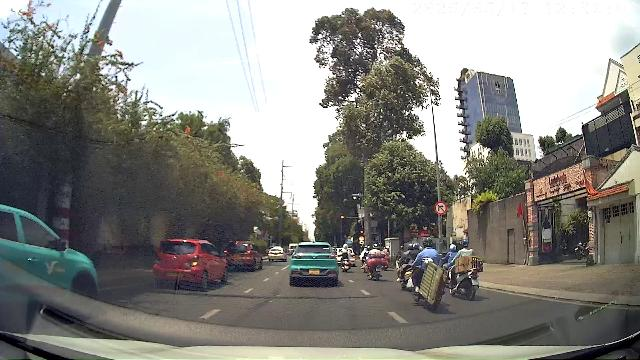123b-cam-re-phai: (434, 201, 448, 215)
